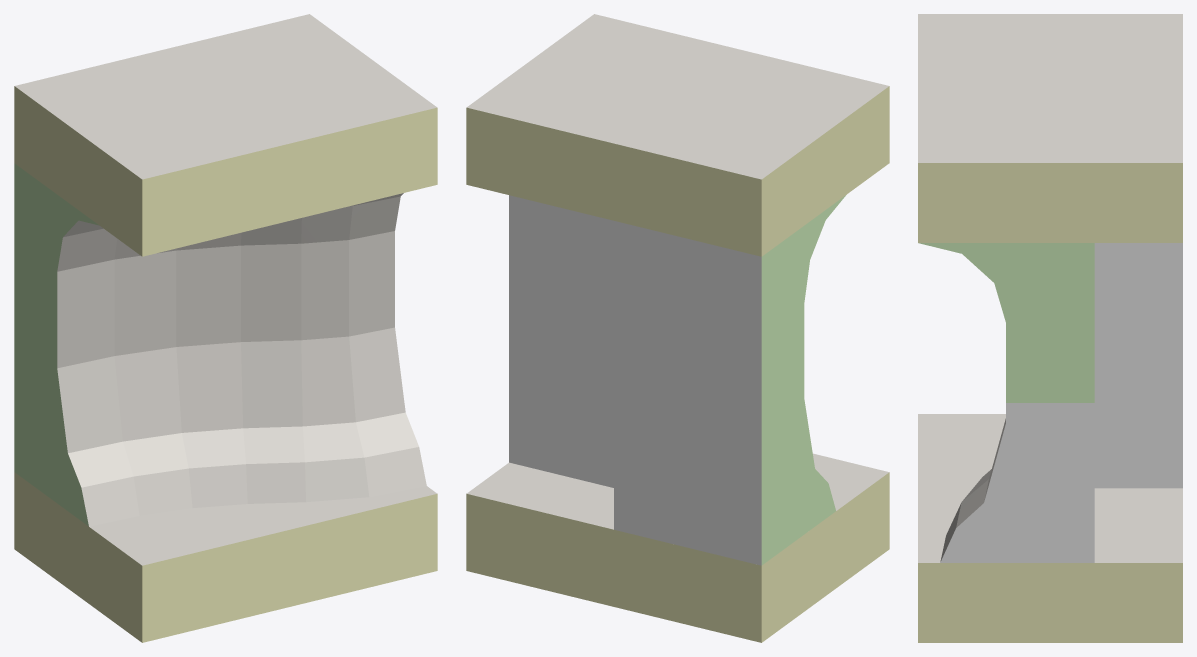
The model's file is Cave_Wall_Esse_Short.glb.
3 views of the same model, side by side, from view 1: azimuth 30°, elevation 25°; view 2: azimuth 150°, elevation 25°; view 3: azimuth 270°, elevation 25° (orthographic). The views are drawn at different scales.
Parts seen in each view (by area): view 1: Floor_And_Ceiling_Flat_1x1 (×2), Wall_Esse_3x4_Base, Wall_Esse_3x4_Top; view 2: Floor_And_Ceiling_Flat_1x1 (×2), Wall_Esse_3x4_Base, Wall_Esse_3x4_Top; view 3: Floor_And_Ceiling_Flat_1x1 (×2), Wall_Esse_3x4_Base, Wall_Esse_3x4_Top.
Part boxes in pixels (bbox=[...]): Floor_And_Ceiling_Flat_1x1 (×2): bbox=[14, 14, 437, 642]; Wall_Esse_3x4_Base: bbox=[14, 308, 426, 526]; Wall_Esse_3x4_Top: bbox=[14, 163, 403, 348]; Floor_And_Ceiling_Flat_1x1 (×2): bbox=[466, 14, 889, 642]; Wall_Esse_3x4_Base: bbox=[509, 308, 835, 565]; Wall_Esse_3x4_Top: bbox=[509, 195, 845, 411]; Floor_And_Ceiling_Flat_1x1 (×2): bbox=[918, 14, 1182, 642]; Wall_Esse_3x4_Base: bbox=[940, 328, 1182, 562]; Wall_Esse_3x4_Top: bbox=[918, 243, 1182, 402].
Size of the model in its own units: 400 by 600 by 300.
